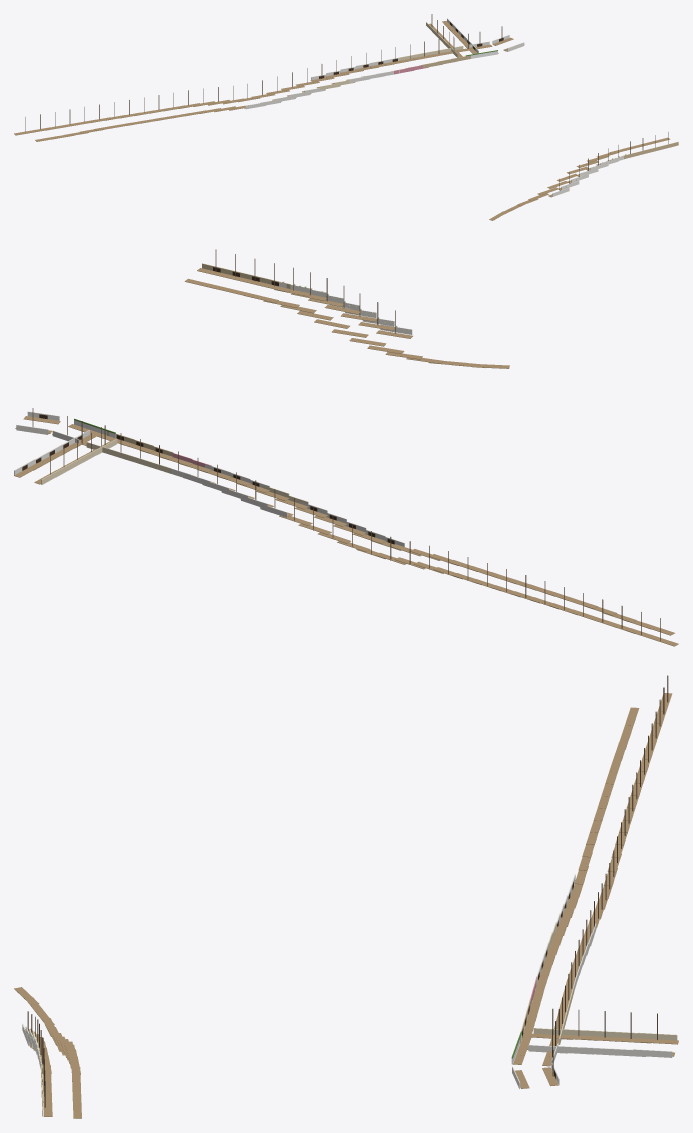
The model's file is noord_res_-27_-24.glb.
3 renders of one model, top to bottom at view 1: azimuth 30°, elevation 25°; view 2: azimuth 150°, elevation 25°; view 3: azimuth 270°, elevation 25°, orthographic. The views are drawn at different scales.
Parts seen in each view (by area): view 1: noord_res_-27_-24_lod0; view 2: noord_res_-27_-24_lod0; view 3: noord_res_-27_-24_lod0.
Part boxes in pixels (bbox=[...]): noord_res_-27_-24_lod0: bbox=[14, 14, 678, 220]; noord_res_-27_-24_lod0: bbox=[14, 249, 678, 646]; noord_res_-27_-24_lod0: bbox=[14, 675, 678, 1118].
Size of what is drawn, in the model's own units: 279 by 24.5 by 186.
